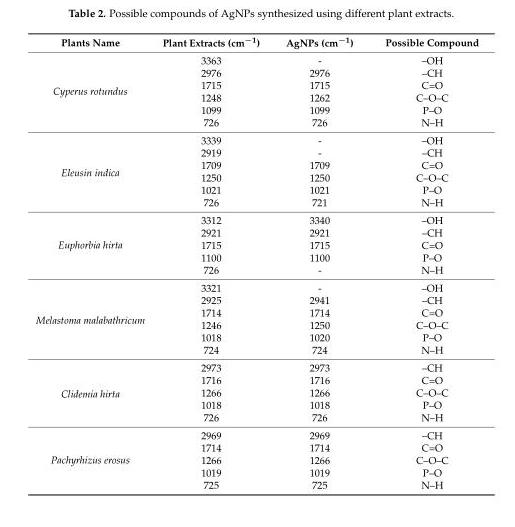table: (35, 34, 478, 490)
table column: (152, 34, 272, 490), (35, 34, 152, 490), (368, 34, 478, 490), (272, 34, 368, 490)
table column header: (35, 34, 478, 51)
table row: (35, 34, 478, 51), (35, 130, 478, 146), (35, 51, 478, 66), (35, 115, 478, 130), (35, 195, 478, 210), (35, 210, 478, 225), (35, 263, 478, 278), (35, 278, 478, 293), (35, 343, 478, 358), (35, 358, 478, 373), (35, 410, 478, 425), (35, 425, 478, 440), (35, 90, 478, 103), (35, 170, 478, 183), (35, 225, 478, 238), (35, 250, 478, 263), (35, 305, 478, 318), (35, 330, 478, 343), (35, 385, 478, 398), (35, 440, 478, 453), (35, 465, 478, 478), (35, 66, 478, 78), (35, 78, 478, 90), (35, 103, 478, 115), (35, 146, 478, 158), (35, 158, 478, 170), (35, 183, 478, 195), (35, 238, 478, 250), (35, 293, 478, 305), (35, 318, 478, 330), (35, 373, 478, 385), (35, 398, 478, 410), (35, 453, 478, 465), (35, 478, 478, 490)
table spanning cell: (35, 130, 152, 210), (35, 278, 152, 358), (35, 51, 152, 130), (35, 210, 152, 278), (35, 358, 152, 425), (35, 425, 152, 490)
